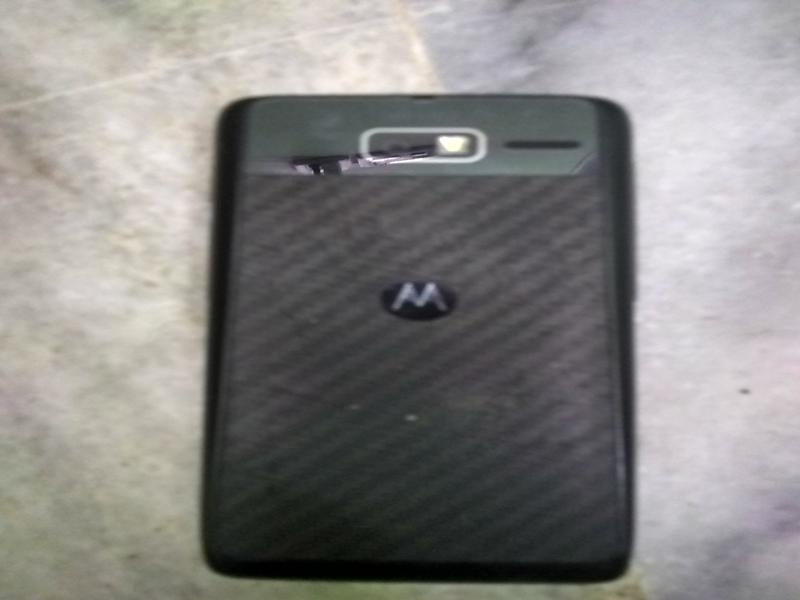moto: (195, 91, 639, 583)
